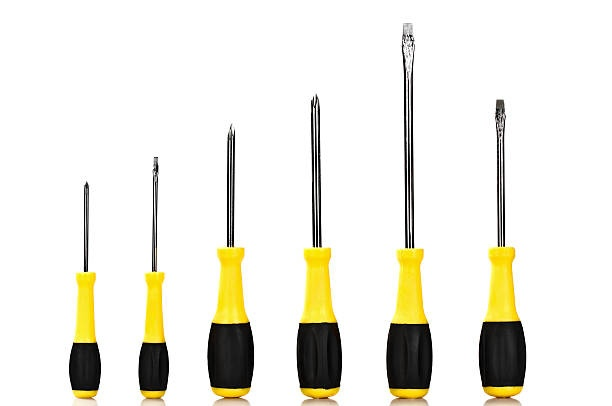screwdriver: (385, 18, 435, 400), (476, 97, 528, 399), (295, 88, 344, 402), (205, 120, 256, 398), (136, 154, 170, 406), (68, 180, 105, 404)
